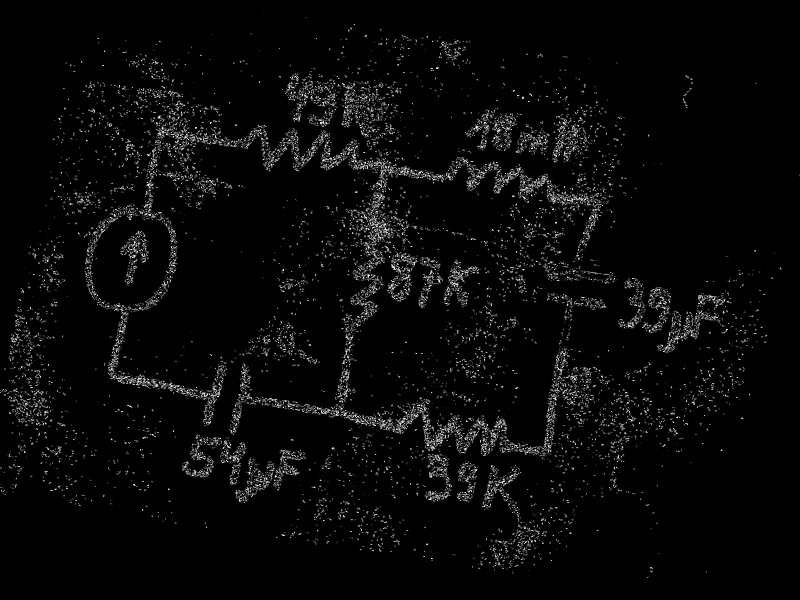1: (460, 107, 495, 152)
3: (612, 274, 653, 335), (416, 451, 459, 508)
4: (278, 70, 315, 126), (214, 436, 249, 488)
5: (180, 429, 224, 481)
7: (408, 255, 448, 310)
8: (380, 249, 421, 303), (487, 113, 519, 154)
9: (638, 283, 676, 338), (304, 80, 340, 130), (449, 460, 483, 506)
F: (687, 290, 726, 346), (270, 448, 306, 495)
H: (548, 118, 580, 166)
k: (335, 82, 386, 141), (478, 462, 528, 518), (441, 258, 480, 312)
m: (514, 128, 551, 160)
u: (236, 456, 276, 507), (662, 310, 695, 357)
